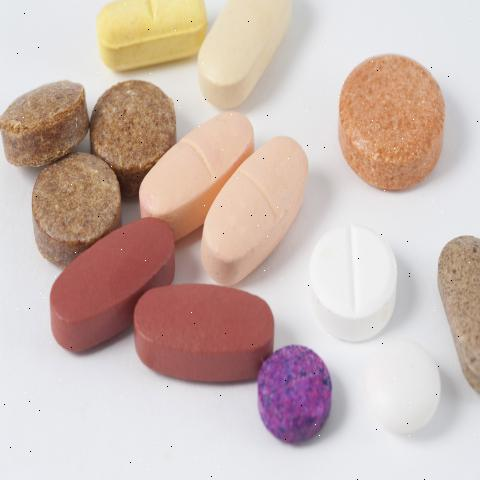Pill: (303, 202, 404, 349), (367, 324, 446, 444)
